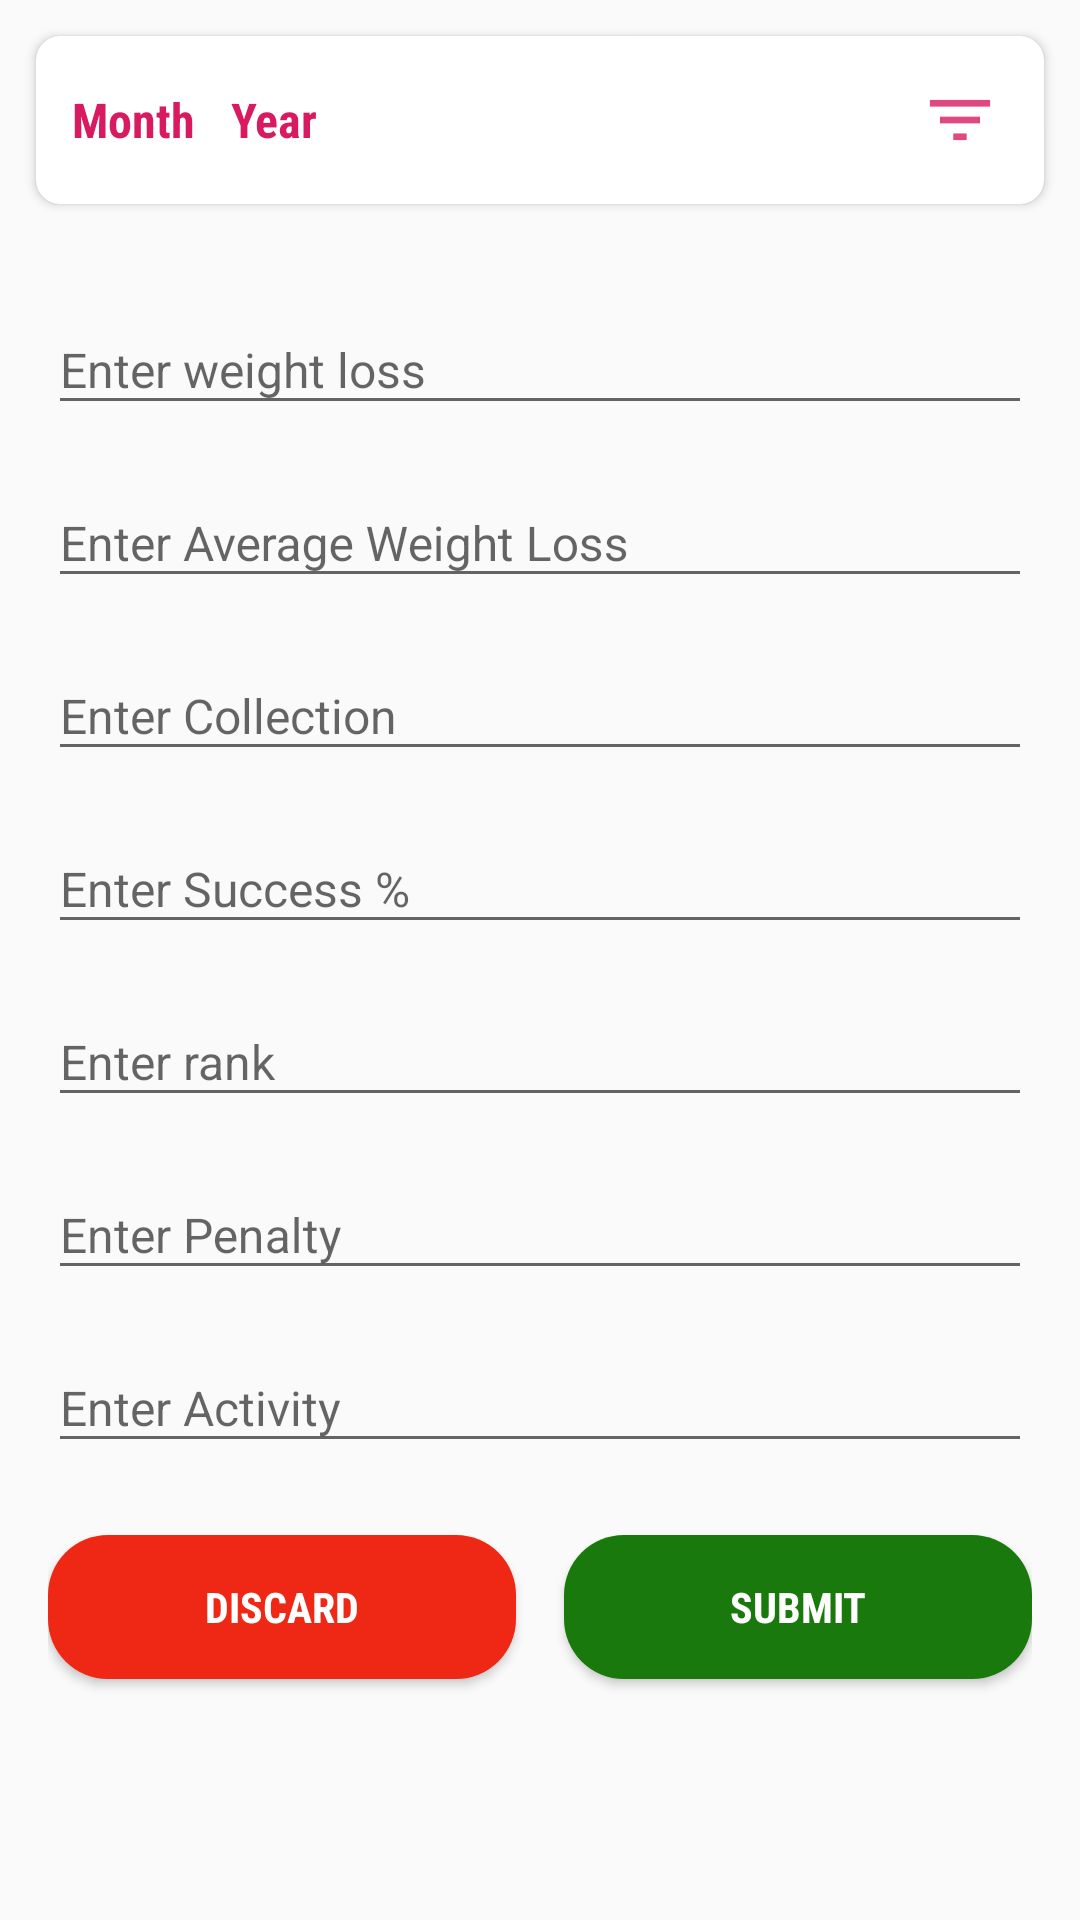

Where icons sit on this 1080 x 1920 app screen, as box(x1, y1, x2, y2):
filter: box(930, 100, 990, 140)
